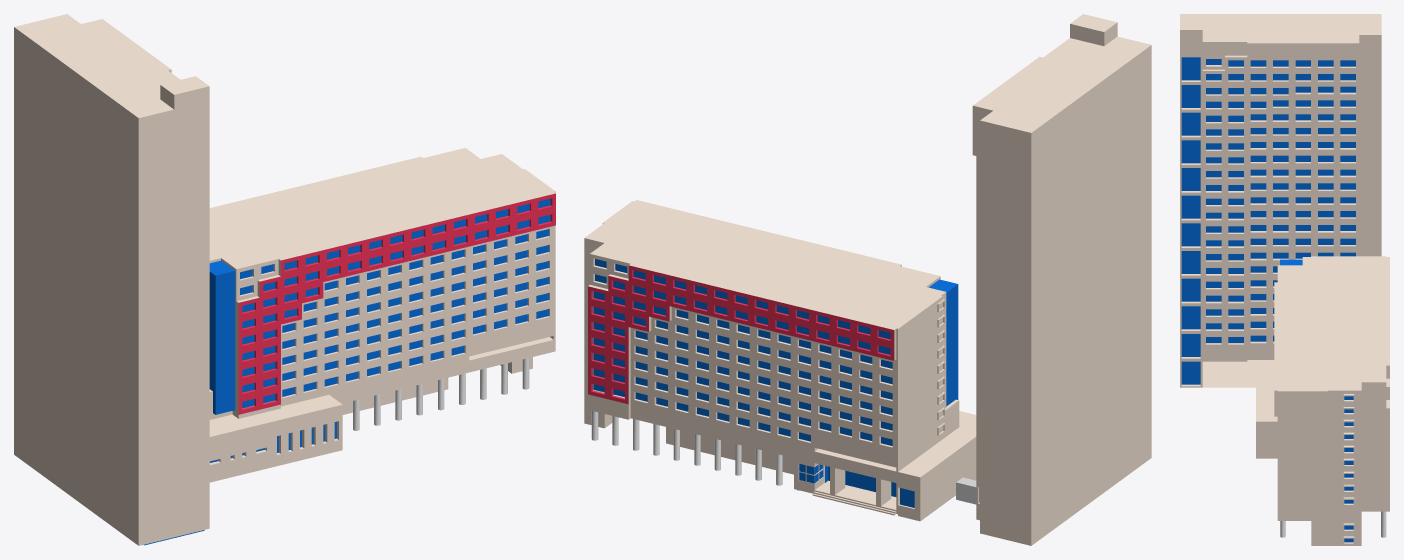
The model's file is 행복관.fbx.
3 views of the same model, side by side, from view 1: azimuth 30°, elevation 25°; view 2: azimuth 150°, elevation 25°; view 3: azimuth 270°, elevation 25° (orthographic). The views are drawn at different scales.
Parts seen in each view (by area): view 1: Cube_5, Cube_20, inside_1, Cube, Cube_1; view 2: Cube_5, Cube, inside_2, Cube_20, Cube_1, inside_1, inside; view 3: Cube_5, Cube_13, Cube, Cube_20, Cube_1, inside_2.
Boxes of the visible parts, <box> form: Cube_5: <box>14,14,209,545</box>; Cube_20: <box>209,169,555,418</box>; inside_1: <box>209,198,550,414</box>; Cube: <box>209,148,532,414</box>; Cube_1: <box>209,389,342,482</box>; Cube_5: <box>972,14,1151,545</box>; Cube: <box>584,216,942,515</box>; inside_2: <box>593,259,892,445</box>; Cube_20: <box>602,200,946,435</box>; Cube_1: <box>898,399,976,521</box>; inside_1: <box>929,279,958,406</box>; inside: <box>799,463,914,507</box>; Cube_5: <box>1180,14,1381,387</box>; Cube_13: <box>1181,57,1355,384</box>; Cube: <box>1311,256,1389,545</box>; Cube_20: <box>1274,257,1327,520</box>; Cube_1: <box>1256,367,1277,458</box>; inside_2: <box>1344,396,1353,542</box>.
Bounding box in the file's own units: 1300 × 1154 × 610.
